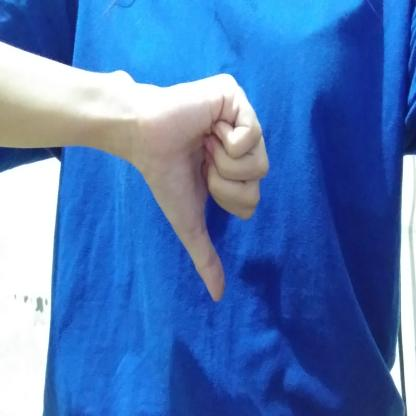where: (111, 64, 277, 310)
